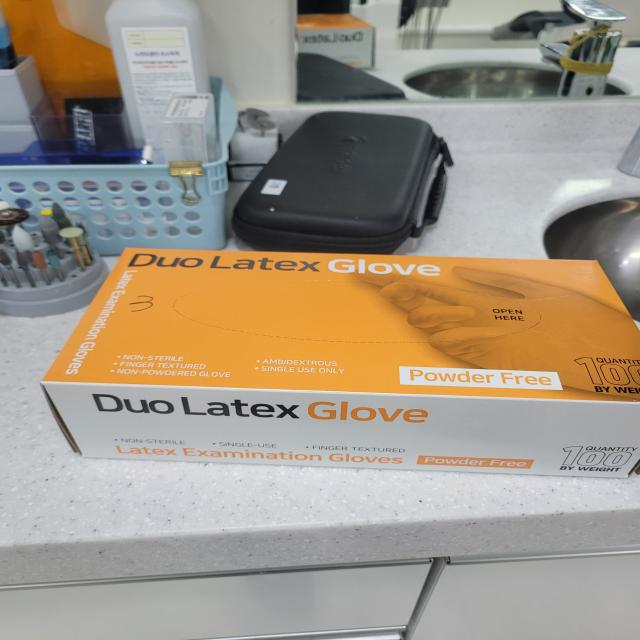glove: (30, 217, 640, 534)
